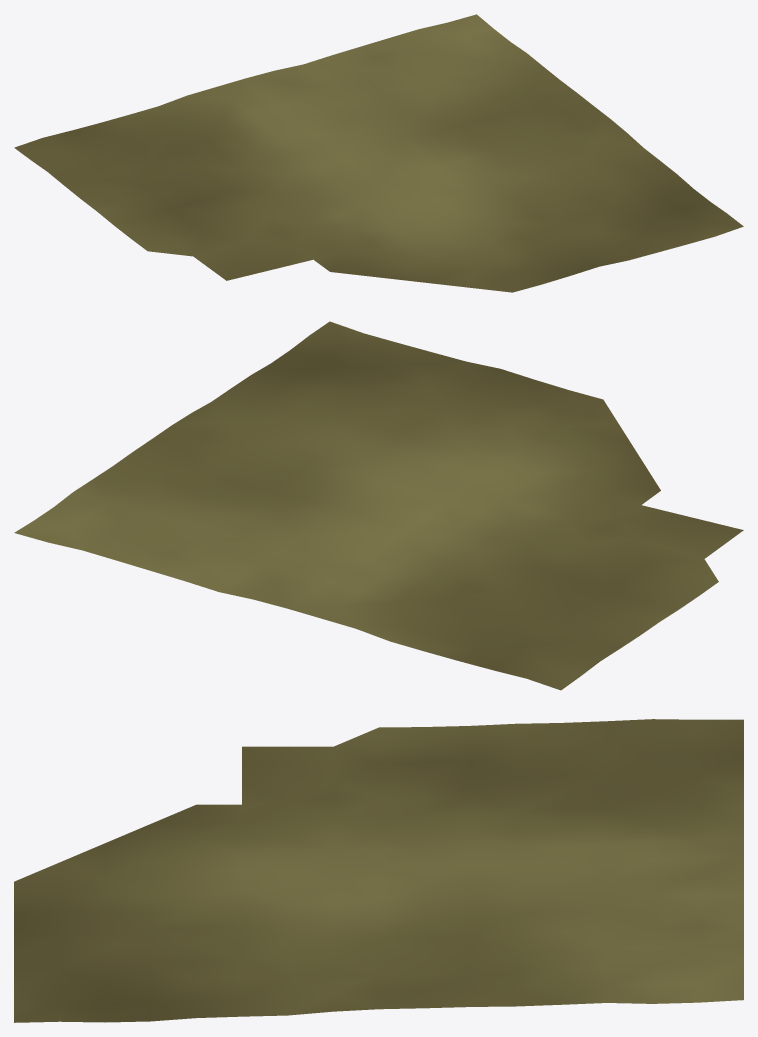
File: terrain_lod1_-5_3.obj
3 renders of one model, top to bottom at view 1: azimuth 30°, elevation 25°; view 2: azimuth 150°, elevation 25°; view 3: azimuth 270°, elevation 25°, orthographic. The views are drawn at different scales.
Visible parts, largest first — view 1: terrain_lod1_-5_3; view 2: terrain_lod1_-5_3; view 3: terrain_lod1_-5_3.
Part boxes in pixels (box(x1,y1,x2,y2)): terrain_lod1_-5_3: box(14, 14, 743, 292); terrain_lod1_-5_3: box(14, 321, 743, 690); terrain_lod1_-5_3: box(14, 719, 743, 1022).
Bounding box in the file's own units: 128 × 6.94 × 128.
